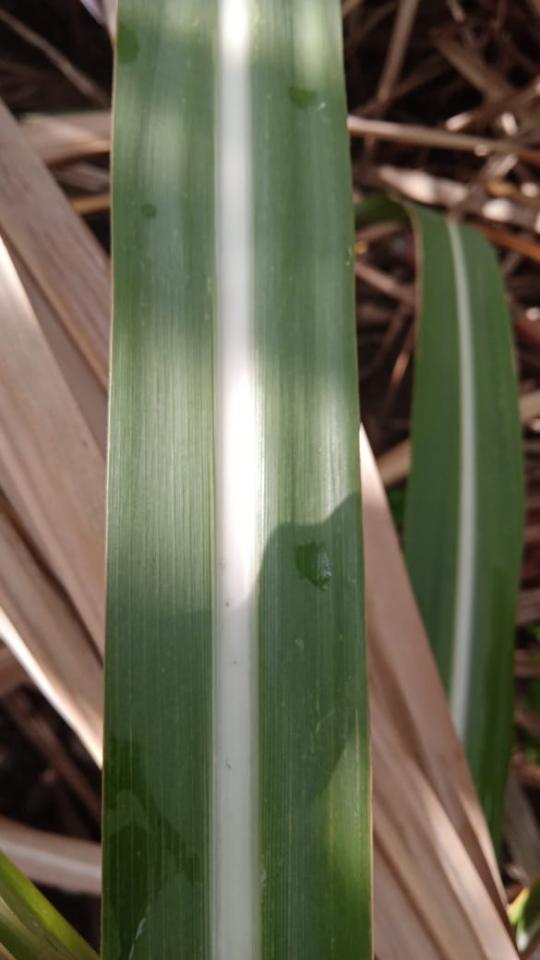Healthy: (102, 0, 371, 959)
